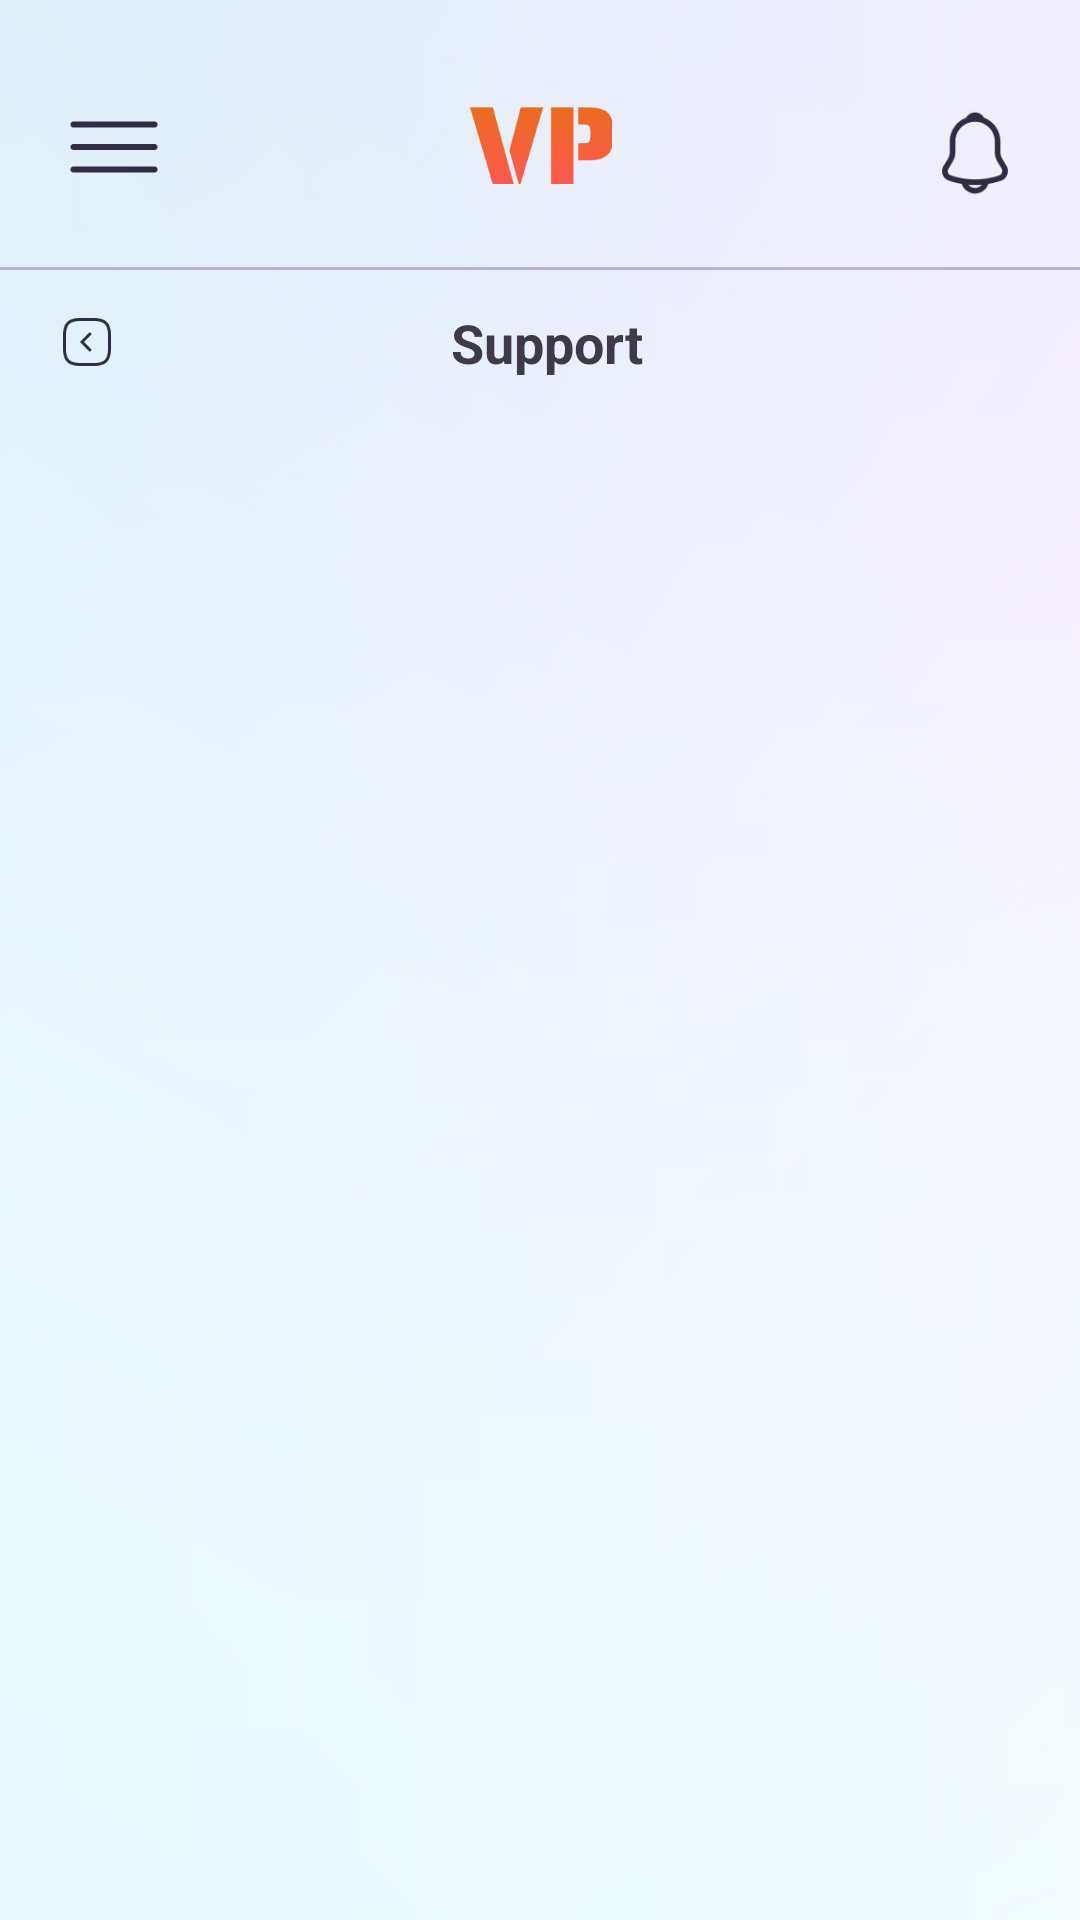

Point at icon controls on the screen. Image size 1080 × 1920, points as (x,y).
arrowleft: (87,342)
menu: (114,147)
notification: (975,153)
